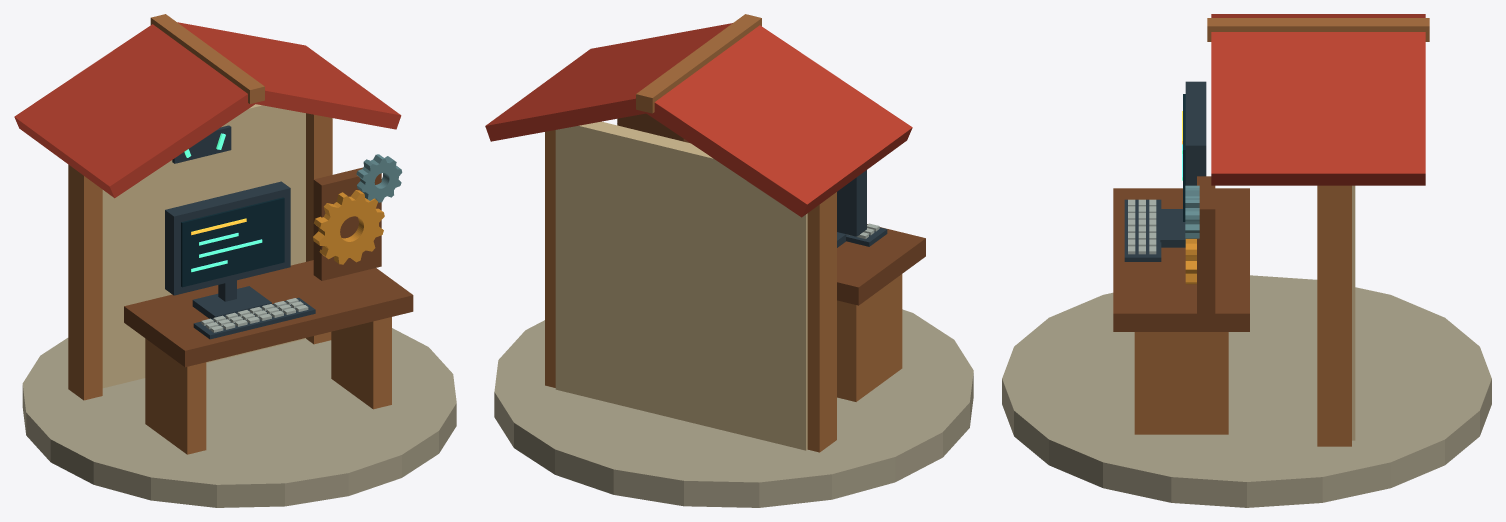
Rendered from landmark_software.glb.
3 views of the same model, side by side, from view 1: azimuth 30°, elevation 25°; view 2: azimuth 150°, elevation 25°; view 3: azimuth 270°, elevation 25° (orthographic). The views are drawn at different scales.
Visible parts, largest first — view 1: landmark_software; view 2: landmark_software; view 3: landmark_software.
Part boxes in pixels (<box>): landmark_software: <box>14,14,456,507</box>; landmark_software: <box>485,14,973,507</box>; landmark_software: <box>1002,14,1491,507</box>.
Size of the model in its own units: 2.4 by 2.07 by 2.4.
